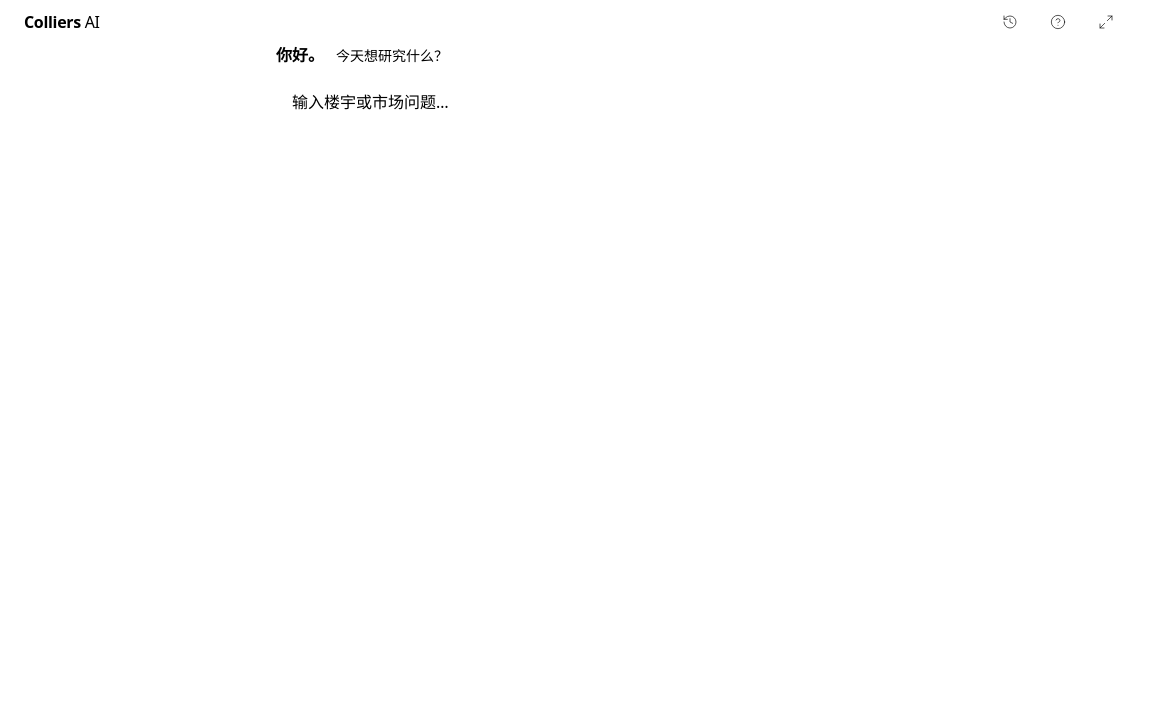
Test case: AI experience regression fixes › removes the requested notice and its stale accessible description while keeping help reachable
The width and height of the screenshot is (1152, 720).
Check: the text box named "向 Colliers AI 提问" is enabled, box [292,88,816,116]
Click the button named "能力与范围".
click(1058, 22)  # box [1036,0,1080,44]
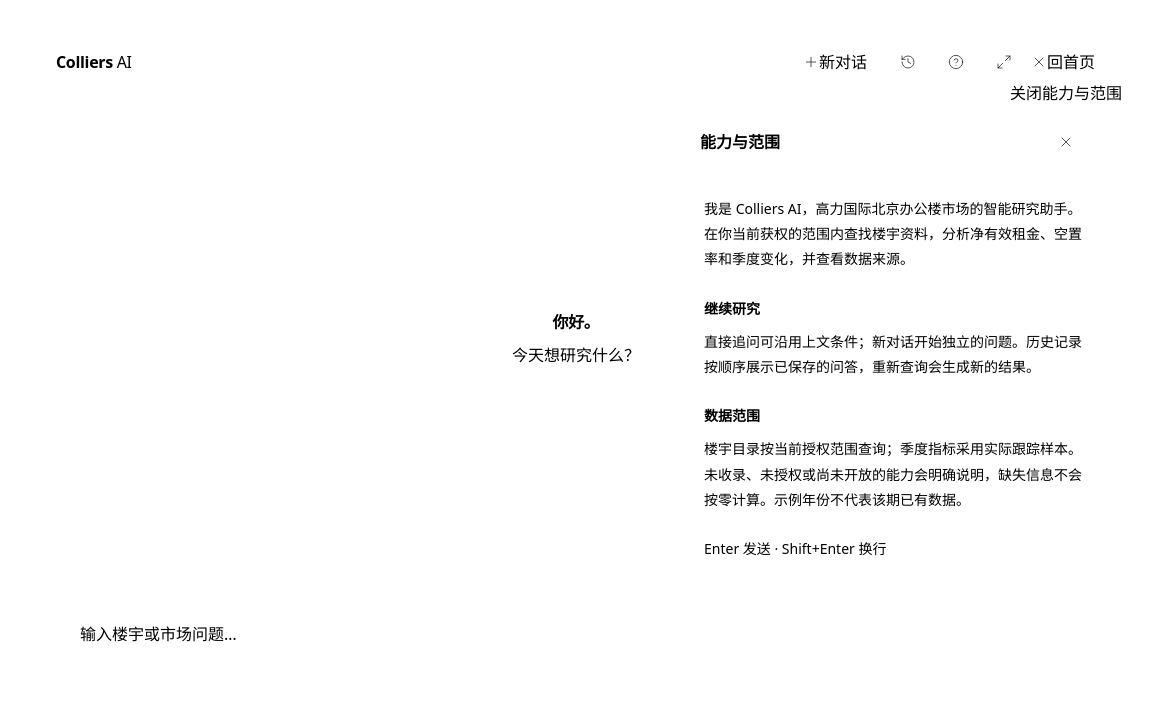
Check: the text "我是 Colliers AI，高力国际北京办公楼市场的智能研究助手" is shown, box [704,199,1082,268]
